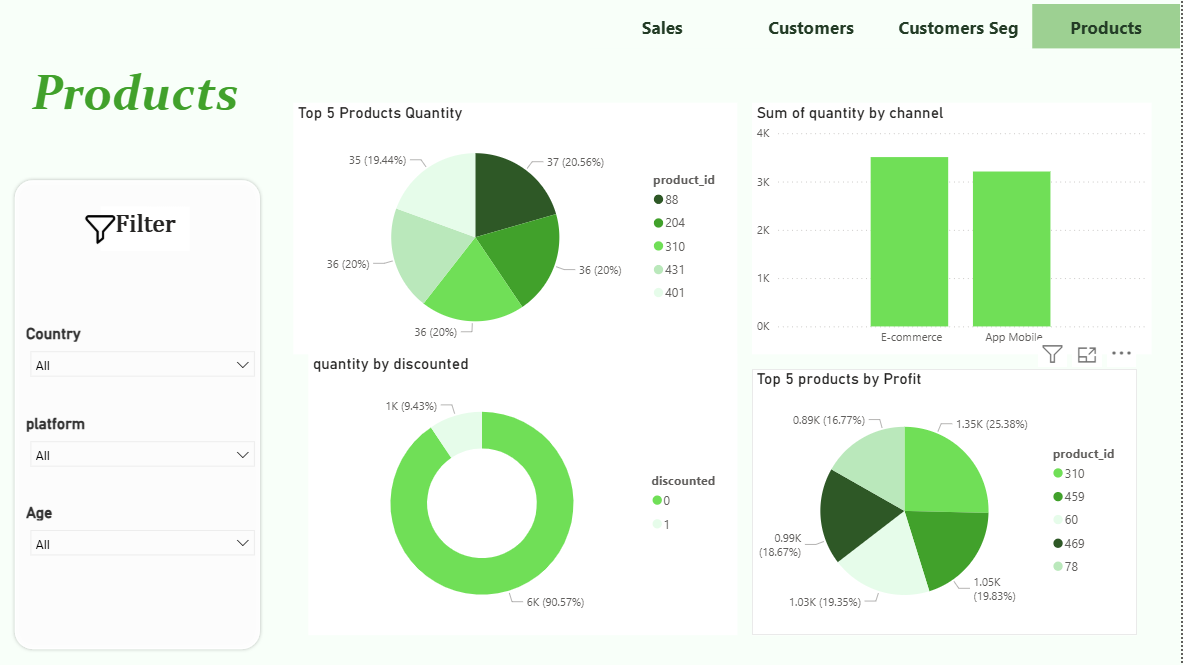

The dashboard page shown, as its layout file describes it:
{"tool":"powerbi","page":{"name":"Products","canvas":[1280,720],"ordinal":3},"visuals":[{"type":"actionButton","box":[639.4,5.5,160,48],"z":0},{"type":"actionButton","box":[799.4,5.5,160,48],"z":1000},{"type":"actionButton","box":[1119.4,5.5,160,48],"z":2000},{"type":"actionButton","box":[959.4,5.5,160,48],"z":3000},{"type":"shape","box":[0,192,288,528],"z":4000},{"type":"slicer","title":"platform","fields":{"Values":["dataset_fashion_store_sales.channel"]},"box":[16,448,272,64],"z":5000},{"type":"slicer","title":"Age","fields":{"Values":["dataset_fashion_store_customers.age_range"]},"box":[16,544,272,64],"z":6000},{"type":"slicer","title":"Country","fields":{"Values":["dataset_fashion_store_customers.country"]},"box":[16,352,272,80],"z":7000},{"type":"textbox","box":[112,224,96,48],"z":8000},{"type":"image","box":[80,224,64,48],"z":9000},{"type":"pieChart","title":"Top 5 Products Quantity","fields":{"Category":["dataset_fashion_store_salesitems.product_id"],"Y":["Sum(dataset_fashion_store_salesitems.quantity)"]},"box":[320,112,480,272],"z":10000},{"type":"columnChart","fields":{"Category":["dataset_fashion_store_salesitems.channel"],"Y":["Sum(dataset_fashion_store_salesitems.quantity)"]},"box":[816,112,432,272],"z":11000},{"type":"donutChart","title":"quantity by discounted","fields":{"Category":["dataset_fashion_store_salesitems.discounted"],"Y":["Sum(dataset_fashion_store_salesitems.quantity)"]},"box":[336,384,464,304],"z":12000},{"type":"pieChart","title":"Top 5 products by Profit","fields":{"Category":["dataset_fashion_store_salesitems.product_id"],"Y":["dataset_fashion_store_salesitems.Profit"]},"box":[816,400,416,288],"z":13000},{"type":"textbox","box":[32,64,272,80],"z":14000}]}

Visuals, with their boxes in screenshot pixels (x1, y1, x2, y2), scaled from the page's 1280x720 canvas onto the 1183x665 screenshot:
actionButton: [x1=591, y1=5, x2=739, y2=49]
actionButton: [x1=739, y1=5, x2=887, y2=49]
actionButton: [x1=1035, y1=5, x2=1182, y2=49]
actionButton: [x1=887, y1=5, x2=1035, y2=49]
shape: [x1=0, y1=177, x2=266, y2=664]
"platform" slicer: [x1=15, y1=414, x2=266, y2=473]
"Age" slicer: [x1=15, y1=502, x2=266, y2=562]
"Country" slicer: [x1=15, y1=325, x2=266, y2=399]
textbox: [x1=104, y1=207, x2=192, y2=251]
image: [x1=74, y1=207, x2=133, y2=251]
"Top 5 Products Quantity" pieChart: [x1=296, y1=103, x2=739, y2=355]
columnChart - dataset_fashion_store_salesitems.channel x Sum(dataset_fashion_store_salesitems.quantity): [x1=754, y1=103, x2=1153, y2=355]
"quantity by discounted" donutChart: [x1=311, y1=355, x2=739, y2=635]
"Top 5 products by Profit" pieChart: [x1=754, y1=369, x2=1139, y2=635]
textbox: [x1=30, y1=59, x2=281, y2=133]
